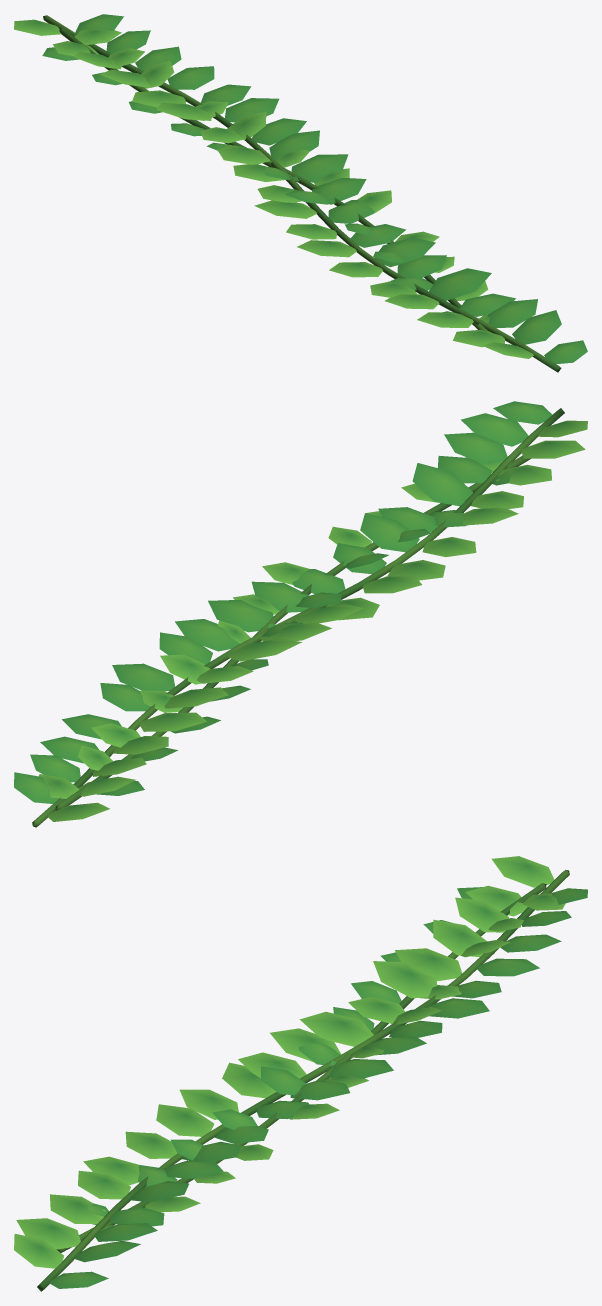
File: vine_edge.glb
The picture shows the model from 3 angles, top to bottom: view 1: azimuth 30°, elevation 25°; view 2: azimuth 150°, elevation 25°; view 3: azimuth 330°, elevation 25°; orthographic projection. The views are drawn at different scales.
Parts seen in each view (by area): view 1: VineEdge; view 2: VineEdge; view 3: VineEdge.
Part boxes in pixels (box(x1,y1,x2,y2)): VineEdge: box(14, 14, 587, 372); VineEdge: box(14, 401, 587, 827); VineEdge: box(14, 856, 587, 1291).
Size of the model in its own units: 0.6501 by 0.1093 by 4.03.
